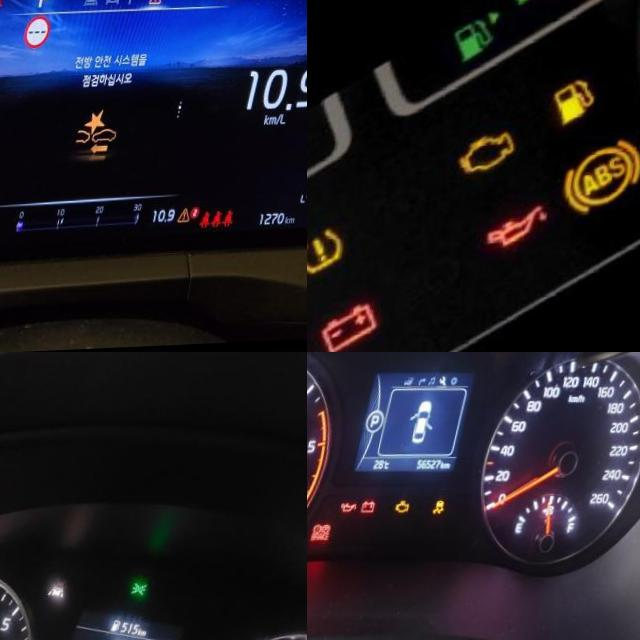Central Warning lamp: (159, 0, 174, 7)
LaneCenteringOff: (56, 584, 78, 602), (227, 0, 249, 4)
Low fuel level: (550, 80, 611, 137), (449, 19, 504, 71)
SideLamp: (140, 583, 159, 599)
